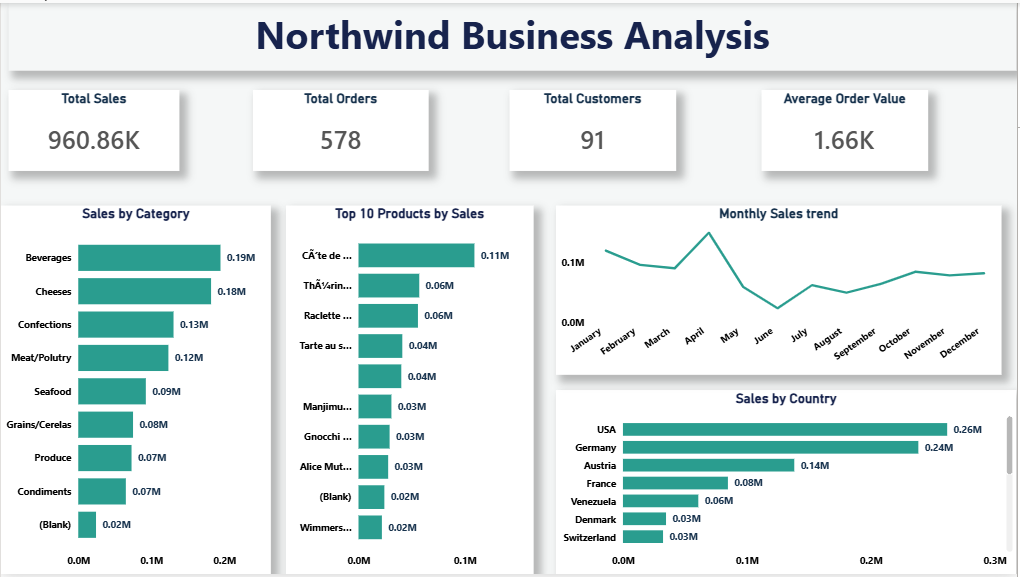

Layout of this report page (visuals, bound fields, positions):
{"tool":"powerbi","page":{"name":"Page 1","canvas":[1280,720],"ordinal":0},"visuals":[{"type":"textbox","box":[10,0,1270,85],"z":0},{"type":"cardVisual","title":"Total Sales","fields":{"Data":["northwind categories.Total Sales"]},"box":[9.4,109.6,215.4,102],"z":1},{"type":"cardVisual","title":"Total Orders","fields":{"Data":["northwind categories.Total Orders"]},"box":[317.5,109.6,221.1,102],"z":2},{"type":"cardVisual","title":"Average Order Value","fields":{"Data":["northwind categories.Average Order Value"]},"box":[958.1,109.6,209.8,102],"z":3},{"type":"cardVisual","title":"Total Customers","fields":{"Data":["northwind categories.Total Customers"]},"box":[640.6,109.6,209.8,102],"z":4},{"type":"clusteredBarChart","title":"Sales by Category ","fields":{"Category":["northwind category.Category Name"],"Y":["northwind categories.Total Sales"]},"box":[0,255.1,340.2,464.9],"z":5},{"type":"clusteredBarChart","title":"Top 10 Products by Sales","fields":{"Category":["northwind products.ProductName"],"Y":["northwind categories.Total Sales"]},"box":[359.1,255.1,311.8,464.9],"z":6},{"type":"clusteredBarChart","title":"Sales by Country","fields":{"Category":["northwind categories.Country"],"Y":["northwind categories.Total Sales"]},"box":[699.2,487.6,580.2,232.4],"z":7},{"type":"lineChart","title":"Monthly Sales trend","fields":{"Y":["northwind categories.Total Sales"],"Category":["northwind orders.OrderDate.Variation.Date Hierarchy.Month"]},"box":[699.2,255.1,561.3,213.5],"z":8}]}

Visuals, with their boxes in screenshot pixels (x1, y1, x2, y2), scaled from the page's 1280x720 canvas onto the 1020x577 screenshot:
textbox: bbox=[8, 0, 1019, 68]
"Total Sales" cardVisual: bbox=[7, 88, 179, 170]
"Total Orders" cardVisual: bbox=[253, 88, 429, 170]
"Average Order Value" cardVisual: bbox=[763, 88, 931, 170]
"Total Customers" cardVisual: bbox=[510, 88, 678, 170]
"Sales by Category " clusteredBarChart: bbox=[0, 204, 271, 576]
"Top 10 Products by Sales" clusteredBarChart: bbox=[286, 204, 535, 576]
"Sales by Country" clusteredBarChart: bbox=[557, 391, 1019, 576]
"Monthly Sales trend" lineChart: bbox=[557, 204, 1004, 376]
